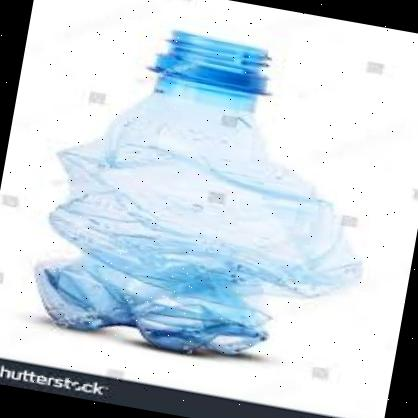bottle: (16, 3, 390, 380)
